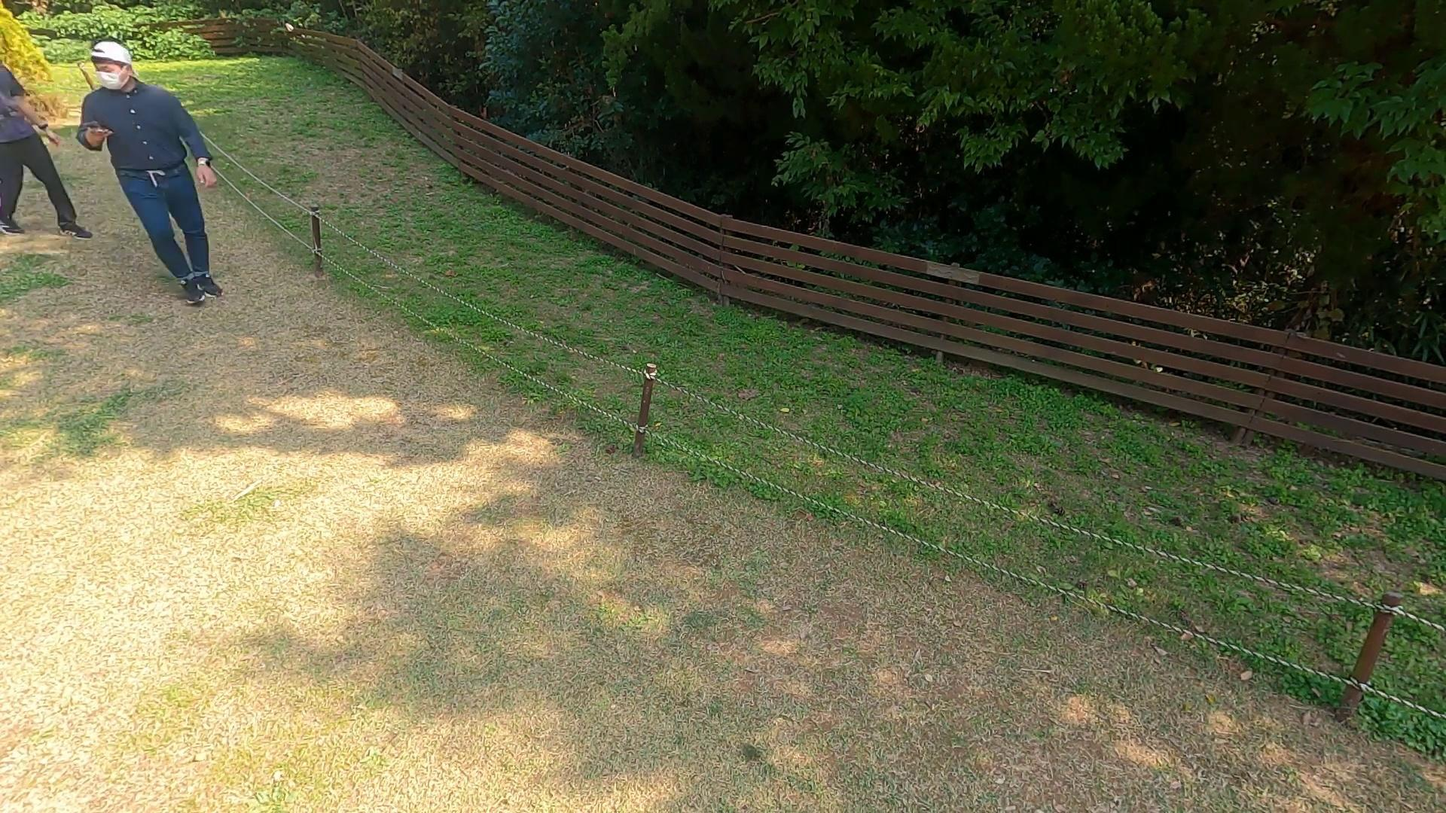person: (73, 38, 238, 311), (0, 53, 92, 267)
